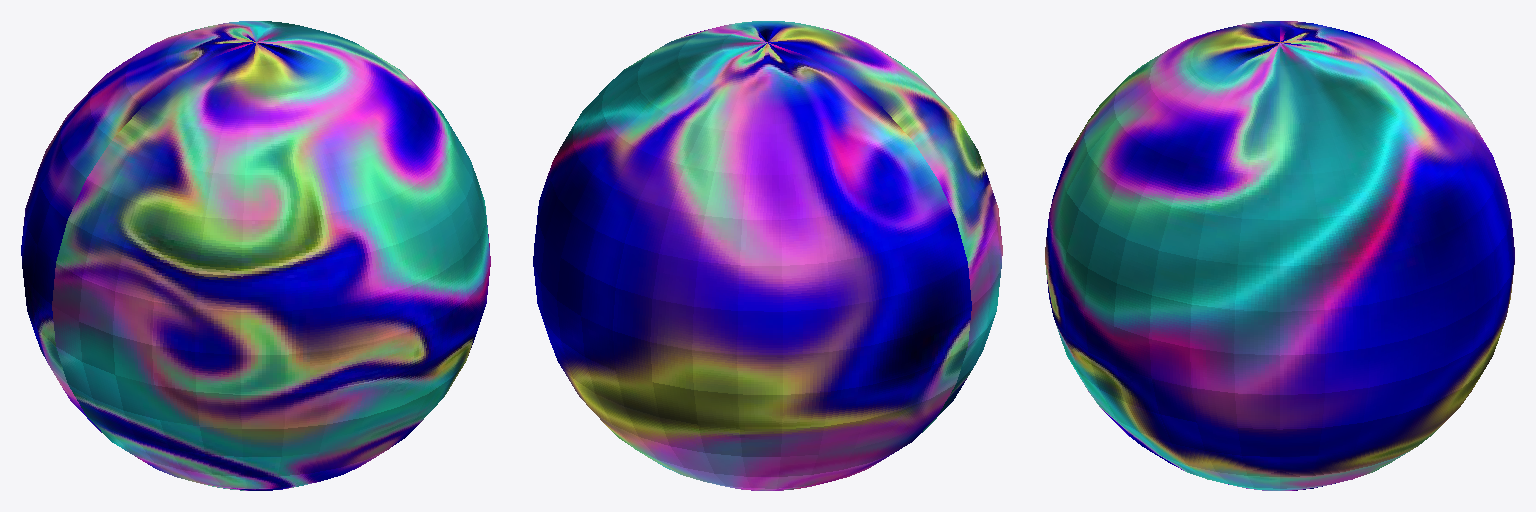
3 renders of one model, left to right at view 1: azimuth 30°, elevation 25°; view 2: azimuth 150°, elevation 25°; view 3: azimuth 270°, elevation 25°, orthographic.
Parts seen in each view (by area): view 1: Sphere; view 2: Sphere; view 3: Sphere.
Part boxes in pixels (bbox=[...]): Sphere: bbox=[21, 21, 490, 490]; Sphere: bbox=[533, 21, 1002, 490]; Sphere: bbox=[1045, 21, 1514, 490].
Bounding box in the file's own units: 1 × 1 × 1.
1 materials, 1 textured.